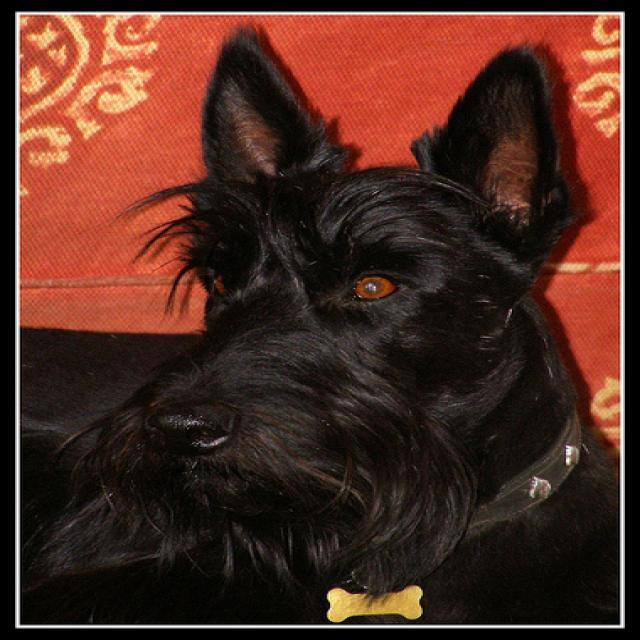dog-scottish_terrier: (12, 15, 632, 636)
